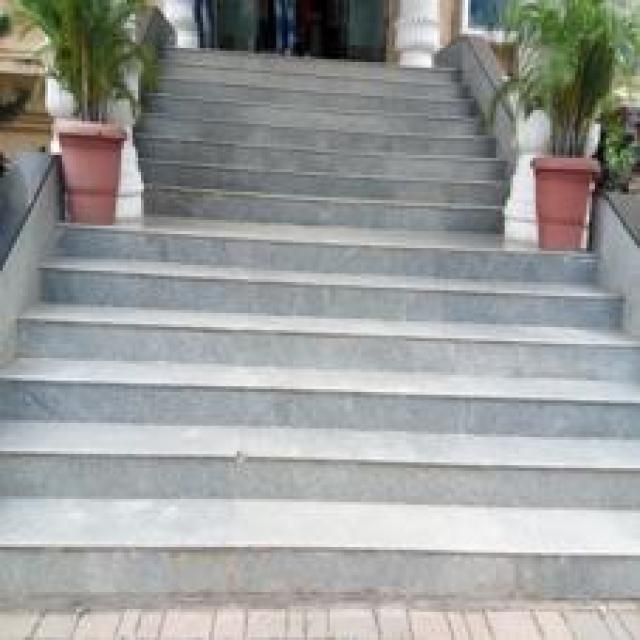stair: (9, 291, 615, 615)
